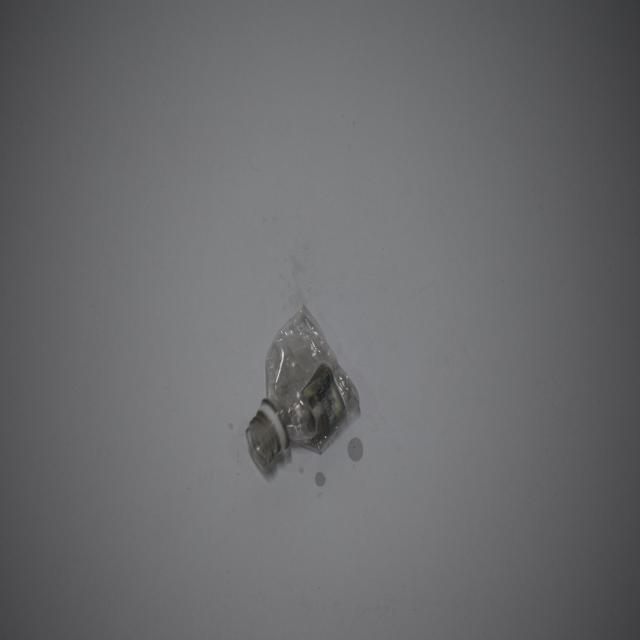bottle: (242, 251, 378, 494)
